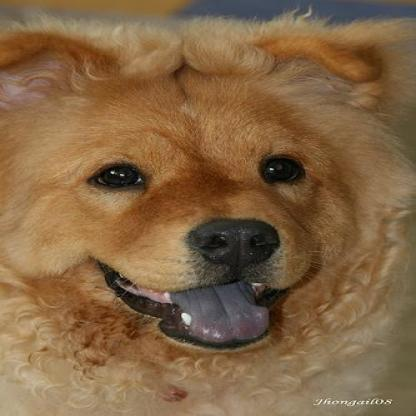chow: (0, 9, 412, 413)
